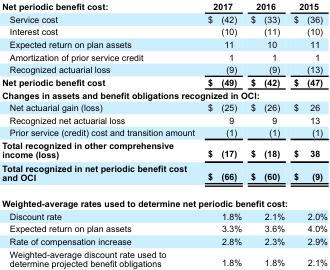table: (1, 1, 326, 267)
table column: (1, 1, 200, 267), (200, 1, 245, 267), (245, 1, 288, 267), (288, 1, 326, 267)
table column header: (1, 1, 326, 12)
table projected row header: (1, 189, 326, 209), (1, 88, 326, 100)
table row: (1, 160, 326, 189), (1, 138, 326, 160), (1, 189, 326, 209), (1, 247, 326, 267), (1, 12, 326, 25), (1, 37, 326, 50), (1, 62, 326, 75), (1, 75, 326, 88), (1, 100, 326, 113), (1, 113, 326, 126), (1, 209, 326, 222), (1, 234, 326, 247), (1, 25, 326, 37), (1, 50, 326, 62), (1, 88, 326, 100), (1, 126, 326, 138), (1, 222, 326, 234), (1, 1, 326, 12)
